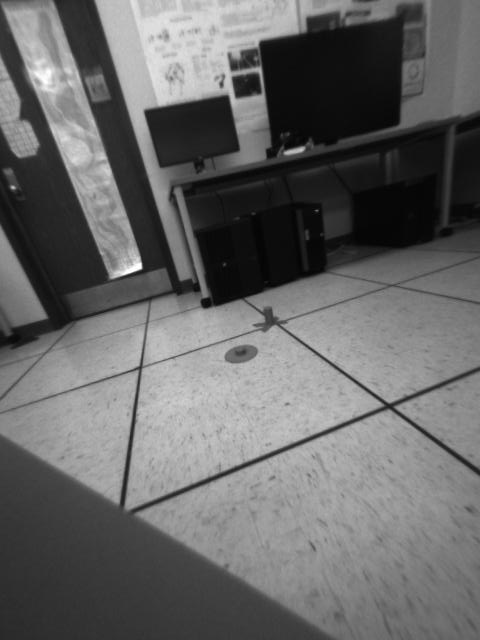X: (252, 307, 288, 333)
